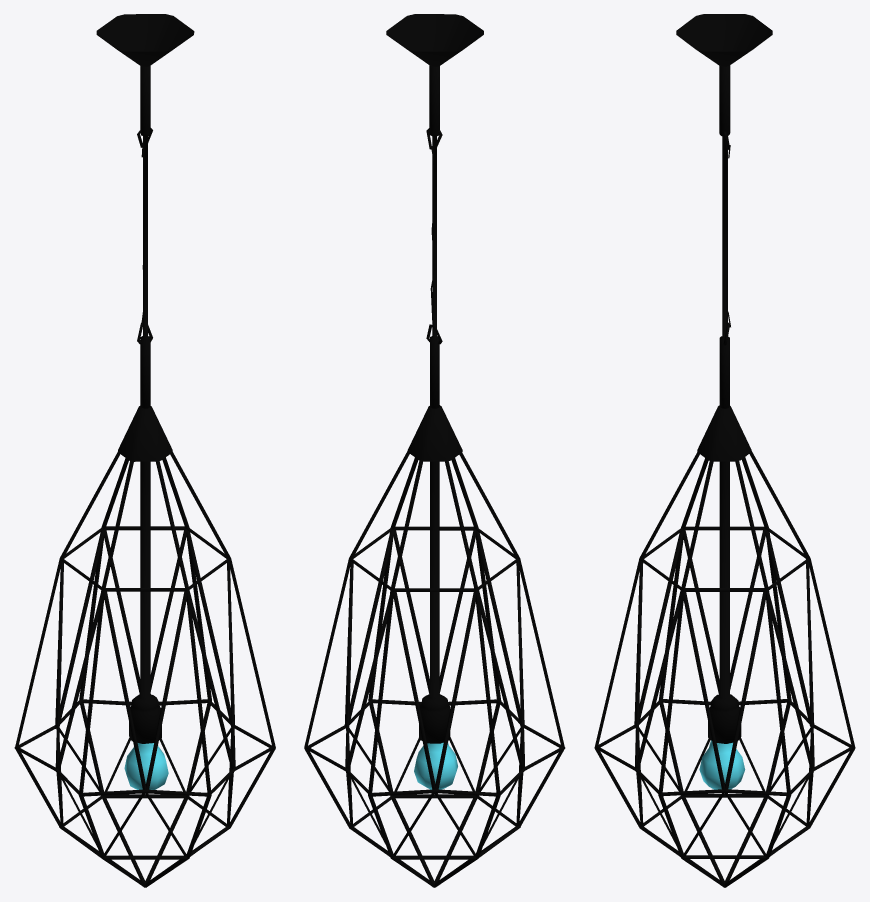
Rendered from SM_Pendantlight_012_C.FBX.
3 renders of one model, left to right at view 1: azimuth 30°, elevation 25°; view 2: azimuth 150°, elevation 25°; view 3: azimuth 270°, elevation 25°, orthographic.
Visible parts, largest first — view 1: SM_Pendantlight_012_C; view 2: SM_Pendantlight_012_C; view 3: SM_Pendantlight_012_C.
Part boxes in pixels (left/top/right/bottom): SM_Pendantlight_012_C: left=14, top=14, right=275, bottom=887; SM_Pendantlight_012_C: left=304, top=14, right=565, bottom=887; SM_Pendantlight_012_C: left=594, top=14, right=855, bottom=887.
Bounding box in the file's own units: 22.68 × 26.03 × 93.93.
